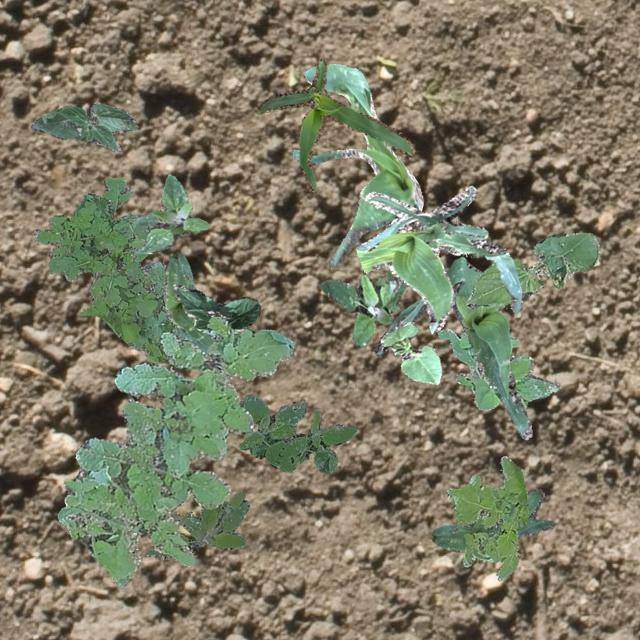crop: (372, 256, 532, 438), (292, 62, 422, 268), (354, 185, 522, 332), (256, 58, 414, 192), (464, 232, 598, 308), (429, 488, 556, 552), (29, 102, 138, 152), (162, 252, 212, 356), (172, 284, 260, 334), (380, 321, 440, 384)
weed: (56, 316, 294, 586), (33, 176, 184, 362), (446, 454, 528, 580), (436, 328, 560, 408), (238, 394, 356, 472), (144, 491, 248, 558), (318, 270, 406, 346), (132, 172, 208, 252)
